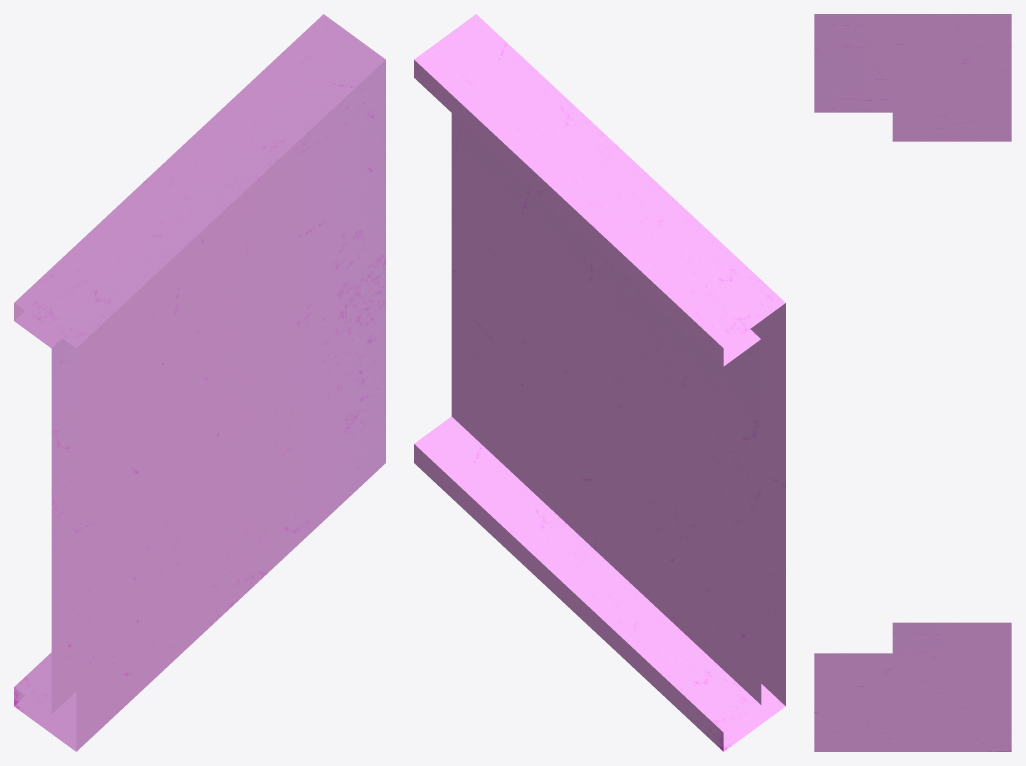
Rendered from SideSupport1Step_01_SM_Low.fbx.
3 renders of one model, left to right at view 1: azimuth 30°, elevation 25°; view 2: azimuth 150°, elevation 25°; view 3: azimuth 270°, elevation 25°, orthographic. The views are drawn at different scales.
Visible parts, largest first — view 1: SideSupport_1Step_Geo; view 2: SideSupport_1Step_Geo; view 3: SideSupport_1Step_Geo.
Boxes of the visible parts, x1=… form: SideSupport_1Step_Geo: x1=14, y1=14, x2=385, y2=751; SideSupport_1Step_Geo: x1=414, y1=14, x2=785, y2=751; SideSupport_1Step_Geo: x1=814, y1=14, x2=1011, y2=751.
Size of the model in its own units: 17.23 by 32.81 by 6.
Materials: 1 (1 with a texture image).
